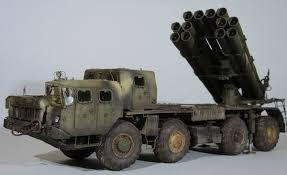MIL_SAM_TEL: (1, 7, 287, 167)
